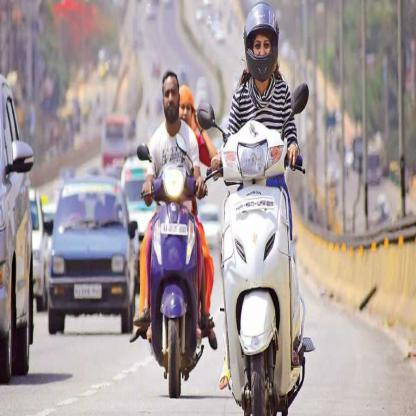car: (49, 180, 134, 335)
motorcycle: (198, 1, 314, 415), (136, 72, 210, 397)
